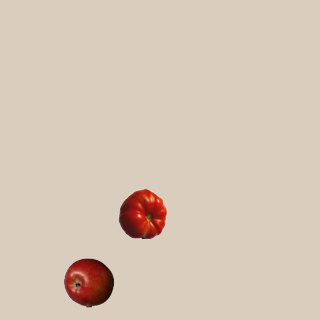Apple Braeburn: (63, 257, 113, 307)
Tomato 3: (117, 188, 167, 238)
